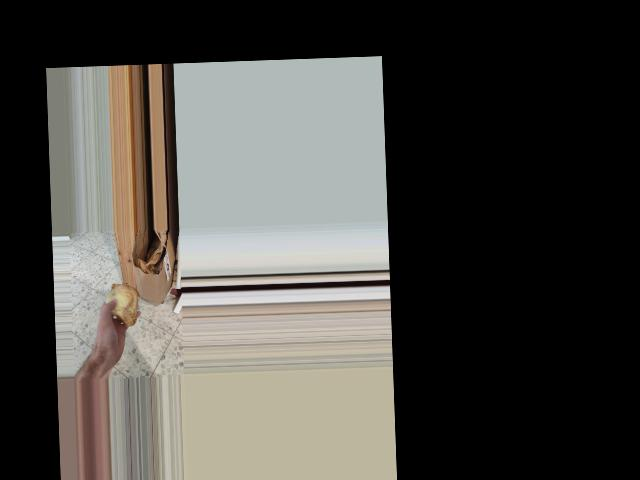onion: (104, 280, 141, 330)
